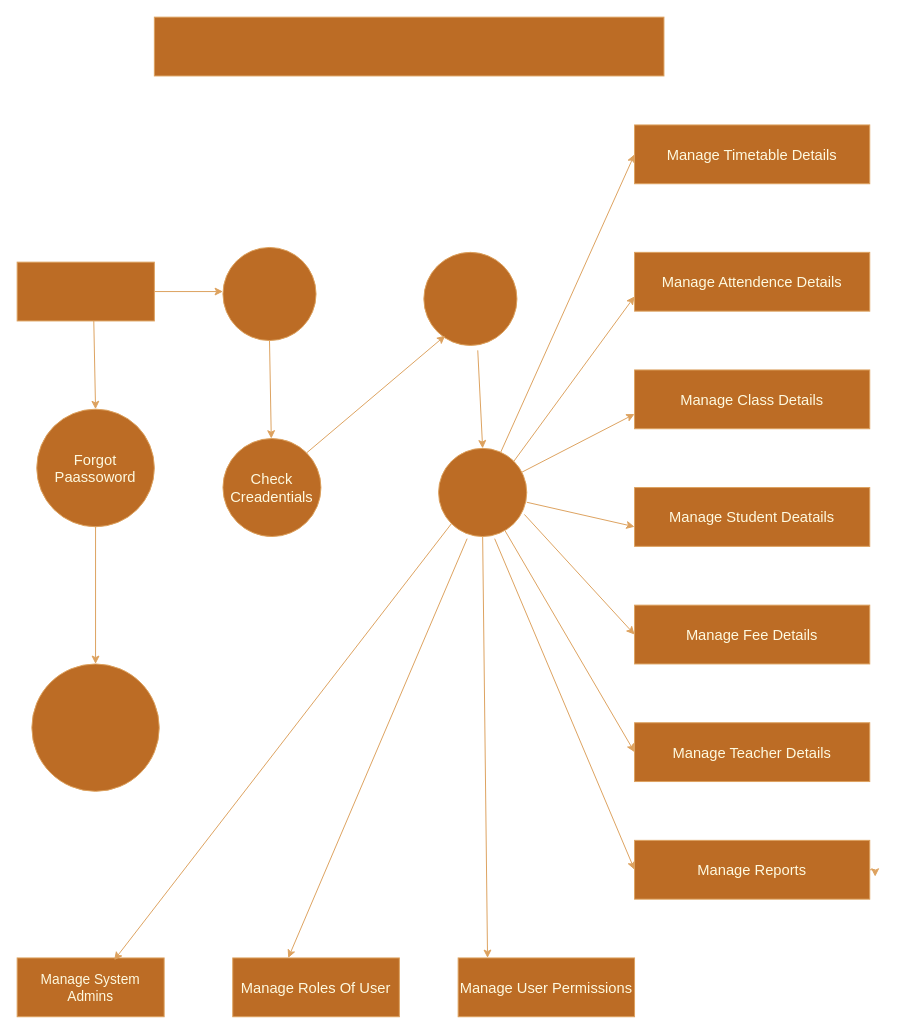
The diagram is 901 pixels wide and 1034 high, and some of its shapes have lost their labels. The centre of each missing label's shape, as x and y in pixels:
"Admin" goes at (85,291).
"Cheack Roles To User" goes at (470,298).
"Login to System" goes at (269,293).
"Manage Modules" goes at (482,492).
"Send Email to User" goes at (95,727).
"Student Information System" goes at (408,46).
